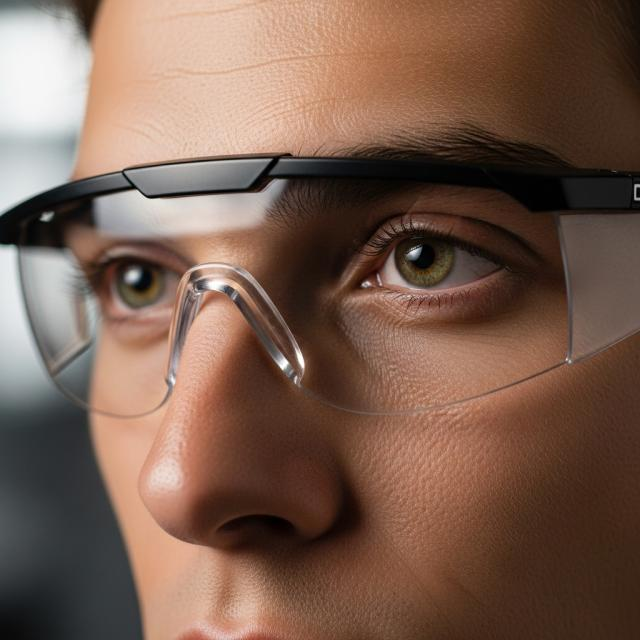oculos-epi: (0, 156, 639, 417)
